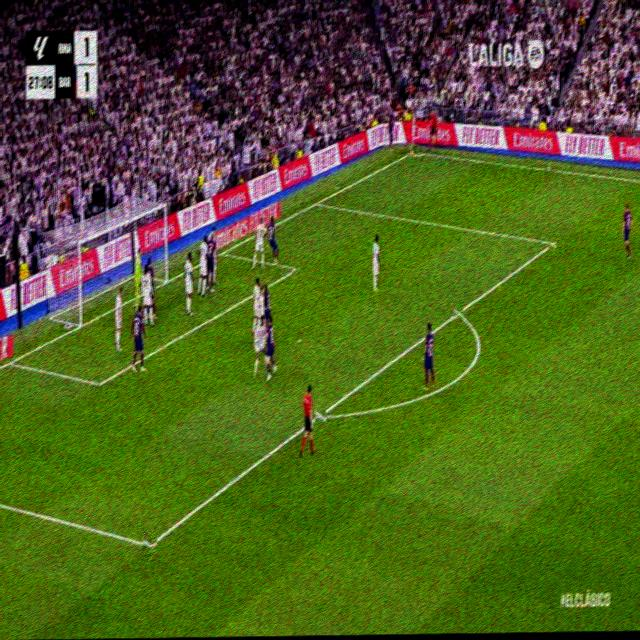bigarea_bottom_inner: (143, 528, 157, 562)
bigarea_top_inner: (549, 234, 556, 252)
bigarea_top_outter: (312, 194, 322, 210)
bottom_arc_area_intersection: (315, 403, 326, 427)
corner: (407, 145, 417, 157)
smallarea_bottom_inner: (95, 372, 104, 395)
smallarea_bottom_outter: (6, 354, 15, 370)
smallarea_top_inner: (294, 262, 300, 276)
top_arc_area_intersection: (454, 301, 463, 321)
